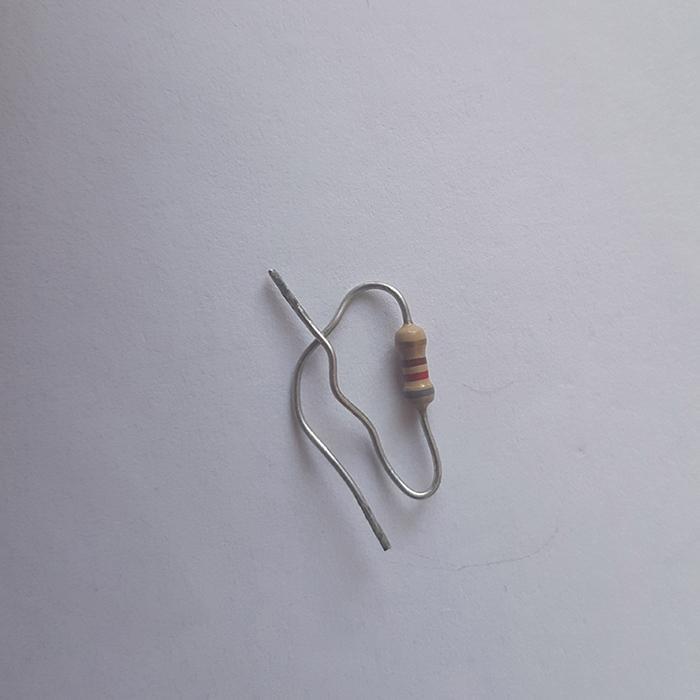resistor: (394, 323, 434, 407)
